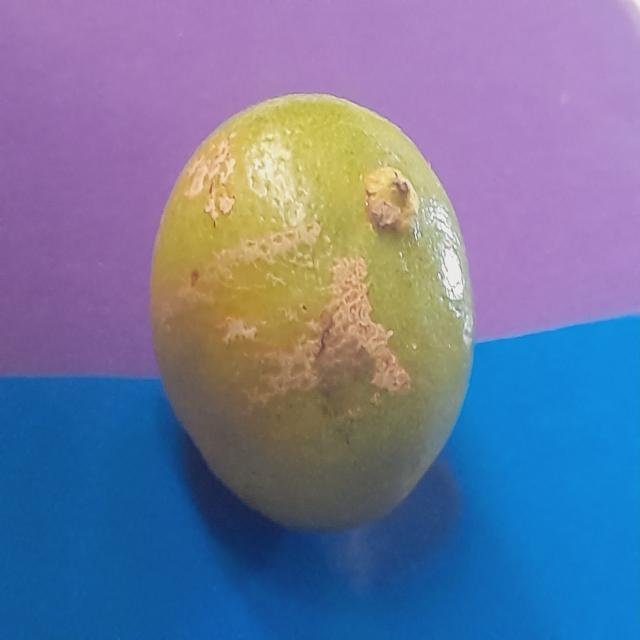thrips: (157, 98, 477, 533)
